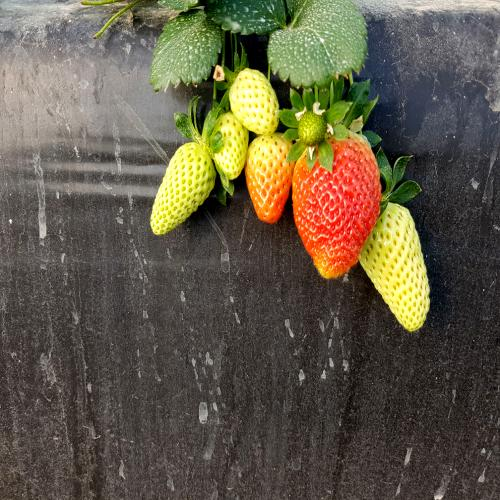partially-ripe: (243, 130, 297, 227)
ripe: (291, 120, 382, 286)
